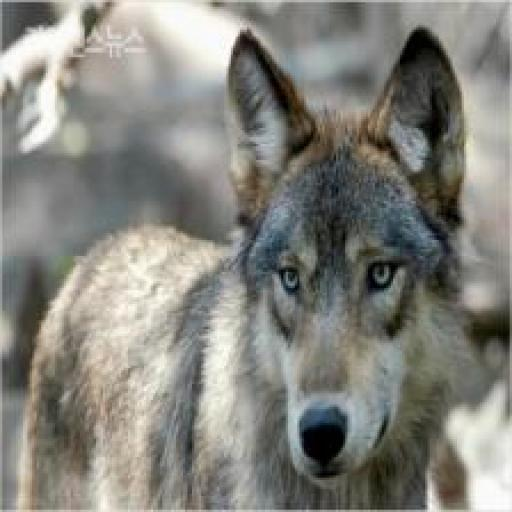wolf: (18, 34, 512, 512)
